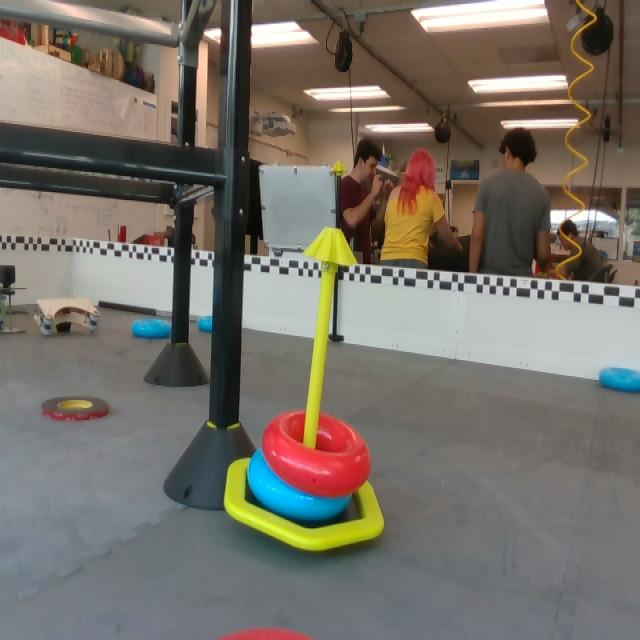Blue-Ring: (247, 446, 353, 520), (597, 366, 639, 396), (127, 316, 172, 340), (194, 316, 212, 333)
Mobile-Goal: (225, 225, 395, 558)
Red-Ring: (260, 412, 370, 498), (216, 625, 321, 639)
Yellow-Stake-Head: (304, 227, 358, 266), (332, 162, 348, 172)
